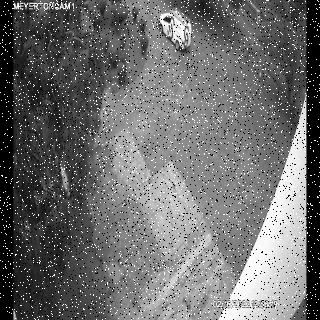car: (18, 167, 70, 242), (158, 8, 192, 52)
